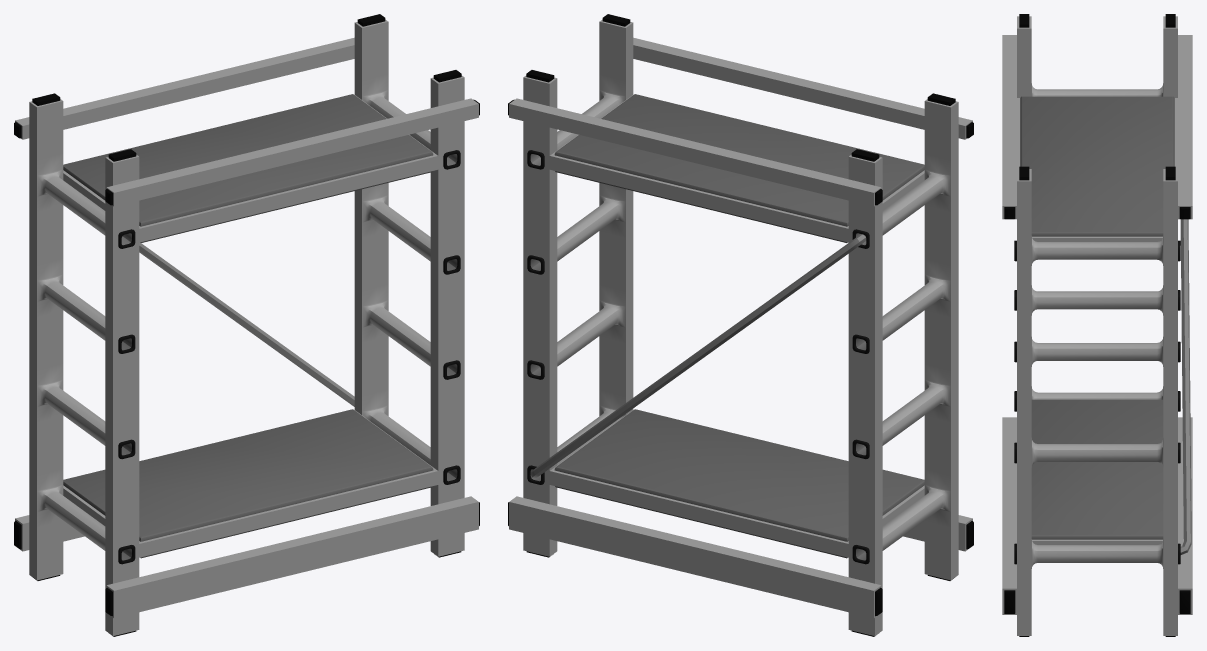
The model's file is Shelf_07a.glb.
The picture shows the model from 3 angles, left to right: view 1: azimuth 30°, elevation 25°; view 2: azimuth 150°, elevation 25°; view 3: azimuth 270°, elevation 25°; orthographic projection. The views are drawn at different scales.
Visible parts, largest first — view 1: Mesh_Shelf_07a; view 2: Mesh_Shelf_07a; view 3: Mesh_Shelf_07a.
Boxes of the visible parts, box(x1,y1,x2,y2) form: Mesh_Shelf_07a: box(14, 14, 479, 636); Mesh_Shelf_07a: box(508, 14, 973, 636); Mesh_Shelf_07a: box(1002, 14, 1192, 636).
Bounding box in the file's own units: 2.11 × 2.6 × 0.975.
1 material, 1 textured.
